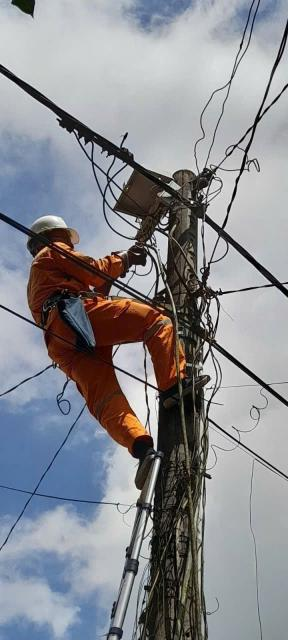gloves: (109, 244, 165, 273), (98, 266, 129, 298)
helmet: (9, 209, 85, 251)
shoes: (154, 371, 220, 414), (124, 435, 166, 499)
